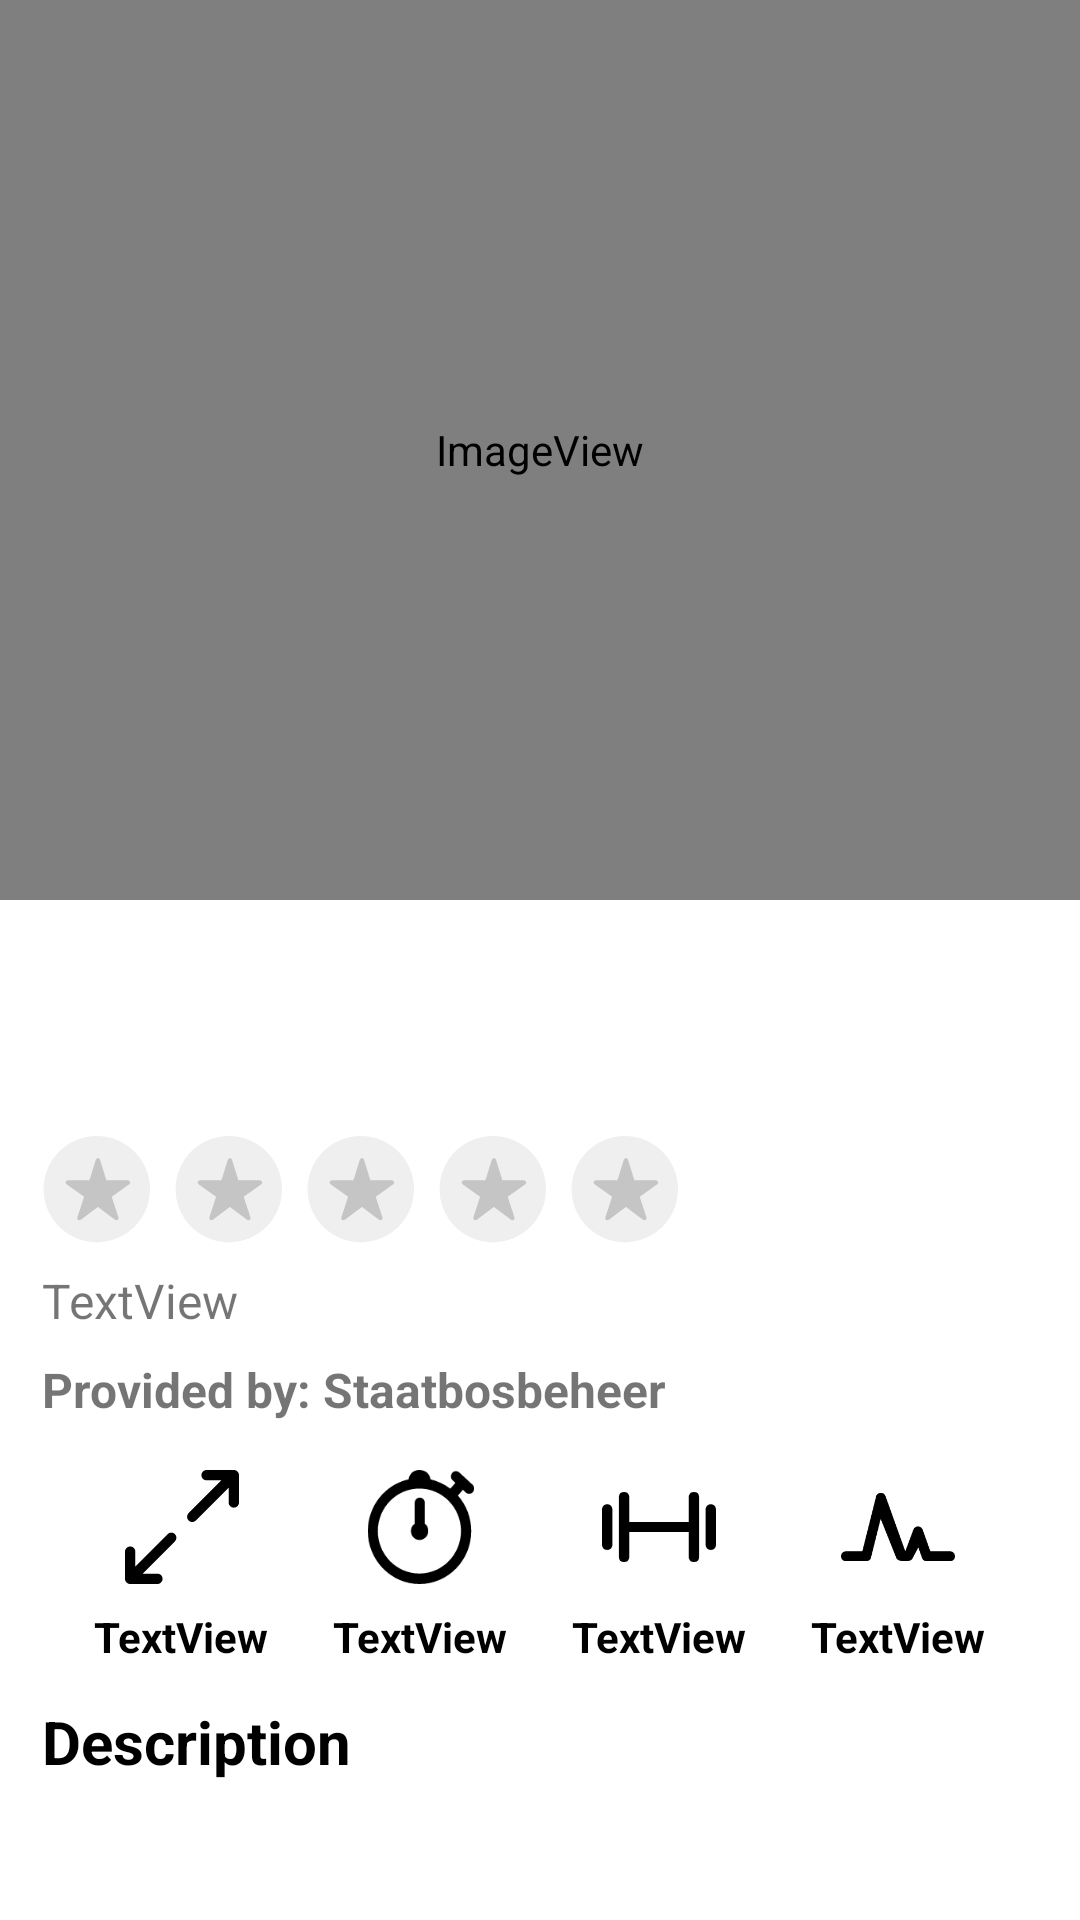

Named icons in this screenshot (1080px x 1920px) and their centers, (x,y):
distance: (182,1527)
elevation: (898,1527)
routiq rating empty: (97,1189), (229,1189), (361,1189), (493,1189), (625,1189)
time: (421,1527)
